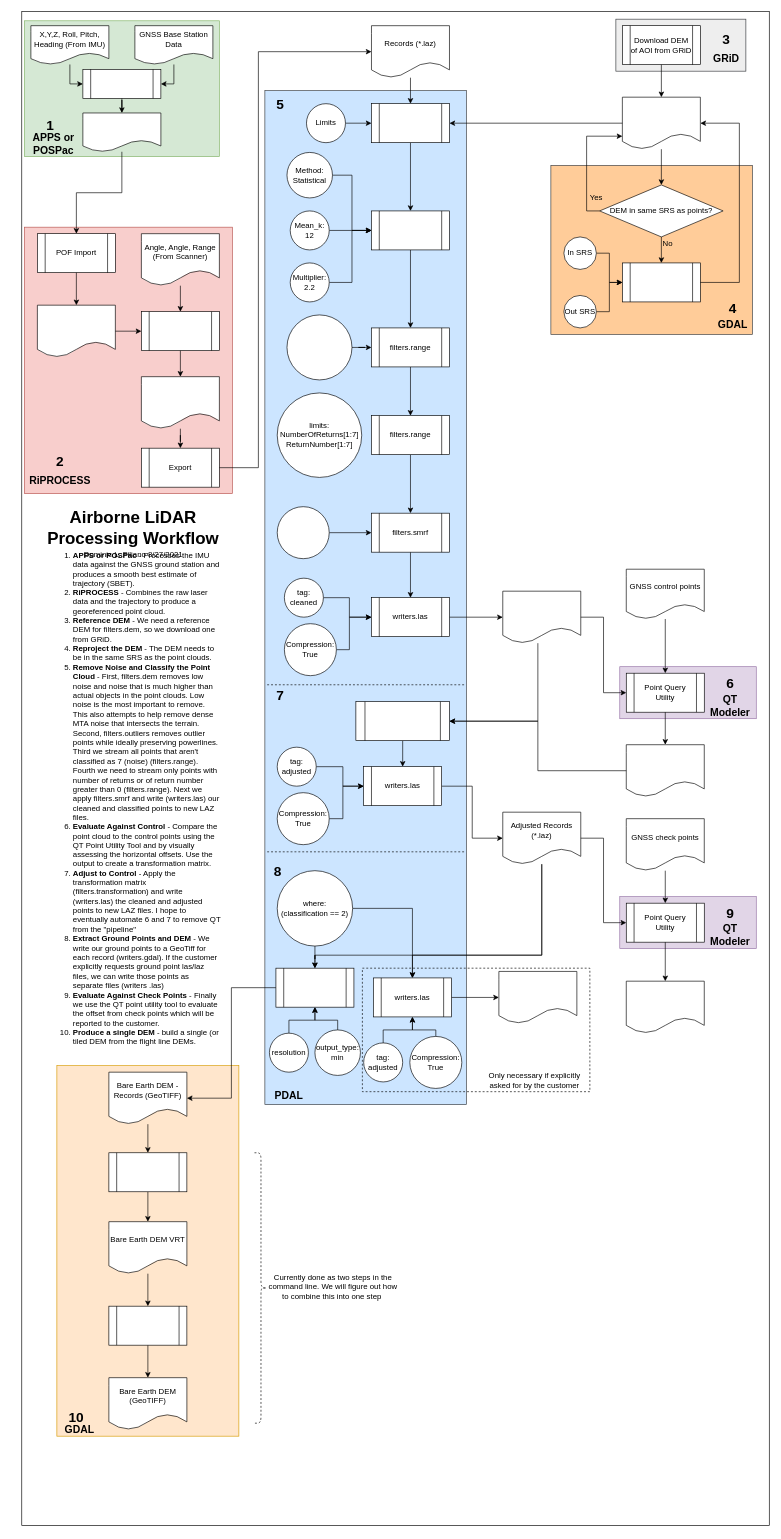
Image size: 781x1539. Some labels were removed from this diagram. Here are the shapes that lost their labels. From the top down, the centre of each, then its label:
At pixel 121 83: "Kalman Filter".
At pixel 121 132: "SBET".
At pixel 410 123: "filters.dem".
At pixel 661 123: "Coarse Reference DEM".
At pixel 410 230: "filters.outlier".
At pixel 661 282: "gdalwarp".
At pixel 76 331: "POF".
At pixel 180 331: "RiUNITE".
At pixel 319 347: "limits: classification[1:6]".
At pixel 180 402: "Point Cloud .rxp (Records)".
At pixel 303 532: "Parameters".
At pixel 541 617: "Cleaned and Classified Records (*.laz)".
At pixel 402 721: "filters.transformation".
At pixel 665 770: "Transformation Matrix".
At pixel 314 987: "writers.gdal".
At pixel 537 997: "Ground Points - Records (*.laz)".
At pixel 665 1007: "Accuracy Report".
At pixel 147 1172: "gdalbuildvrt".
At pixel 147 1325: "gdal_translate".
